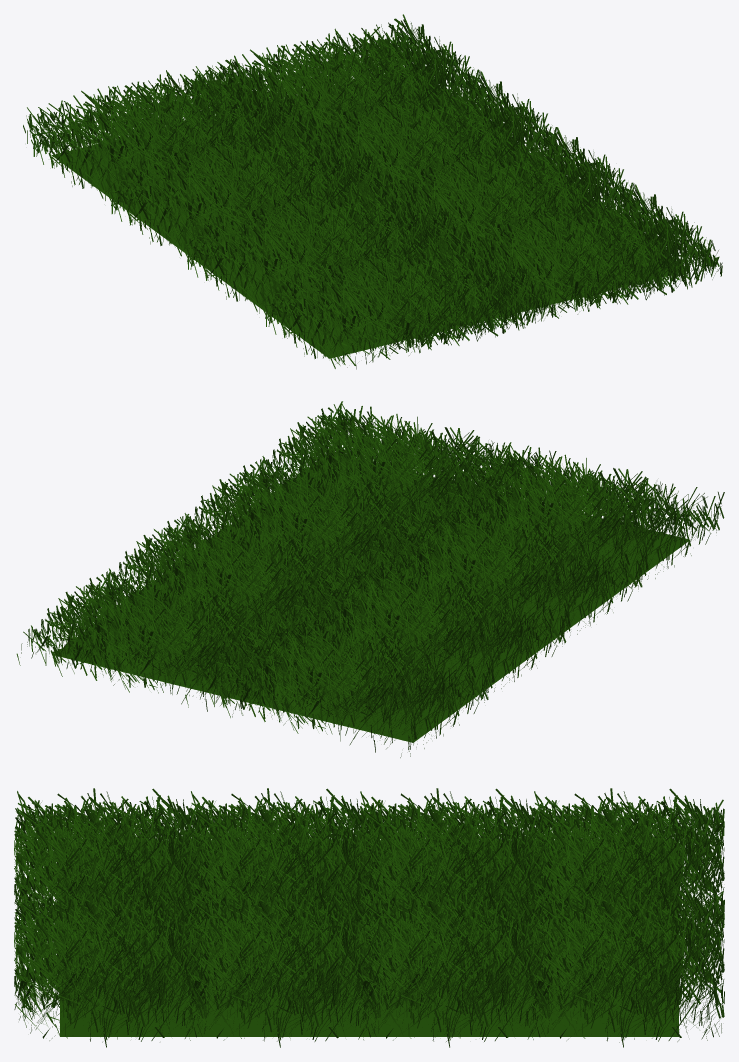
The model's file is grass-block-6x8.glb.
3 views of the same model, one above another, from view 1: azimuth 30°, elevation 25°; view 2: azimuth 150°, elevation 25°; view 3: azimuth 270°, elevation 25° (orthographic). The views are drawn at different scales.
Parts seen in each view (by area): view 1: weed19, weed18, weed17, weed20, weed16, weed14, weed21, weed15, QuadGround; view 2: QuadGround, weed17, weed19, weed14, weed16, weed20, weed18, weed15, weed21; view 3: QuadGround, weed14, weed18, weed15, weed21, weed17, weed19, weed16, weed20.
Boxes of the visible parts, x1=… form: weed19: x1=255, y1=225, x2=553, y2=369; weed18: x1=424, y1=184, x2=722, y2=327; weed17: x1=23, y1=55, x2=315, y2=198; weed20: x1=177, y1=168, x2=469, y2=311; weed16: x1=101, y1=113, x2=395, y2=255; weed14: x1=192, y1=14, x2=488, y2=153; weed21: x1=346, y1=127, x2=642, y2=266; weed15: x1=270, y1=71, x2=567, y2=205; QuadGround: x1=52, y1=71, x2=690, y2=358; QuadGround: x1=54, y1=456, x2=690, y2=742; weed17: x1=185, y1=612, x2=492, y2=757; weed19: x1=423, y1=442, x2=724, y2=588; weed14: x1=16, y1=571, x2=324, y2=717; weed16: x1=269, y1=555, x2=570, y2=701; weed20: x1=345, y1=499, x2=646, y2=645; weed18: x1=255, y1=401, x2=556, y2=537; weed15: x1=97, y1=514, x2=402, y2=650; weed21: x1=171, y1=458, x2=478, y2=594; QuadGround: x1=60, y1=841, x2=678, y2=1036; weed14: x1=531, y1=880, x2=724, y2=1047; weed18: x1=14, y1=880, x2=207, y2=1047; weed15: x1=357, y1=880, x2=550, y2=1047; weed21: x1=188, y1=880, x2=381, y2=1047; weed17: x1=531, y1=788, x2=724, y2=943; weed19: x1=14, y1=788, x2=207, y2=945; weed16: x1=357, y1=788, x2=550, y2=950; weed20: x1=188, y1=788, x2=381, y2=950.
Bounding box in the file's own units: 66.78 × 6.01 × 91.86.
